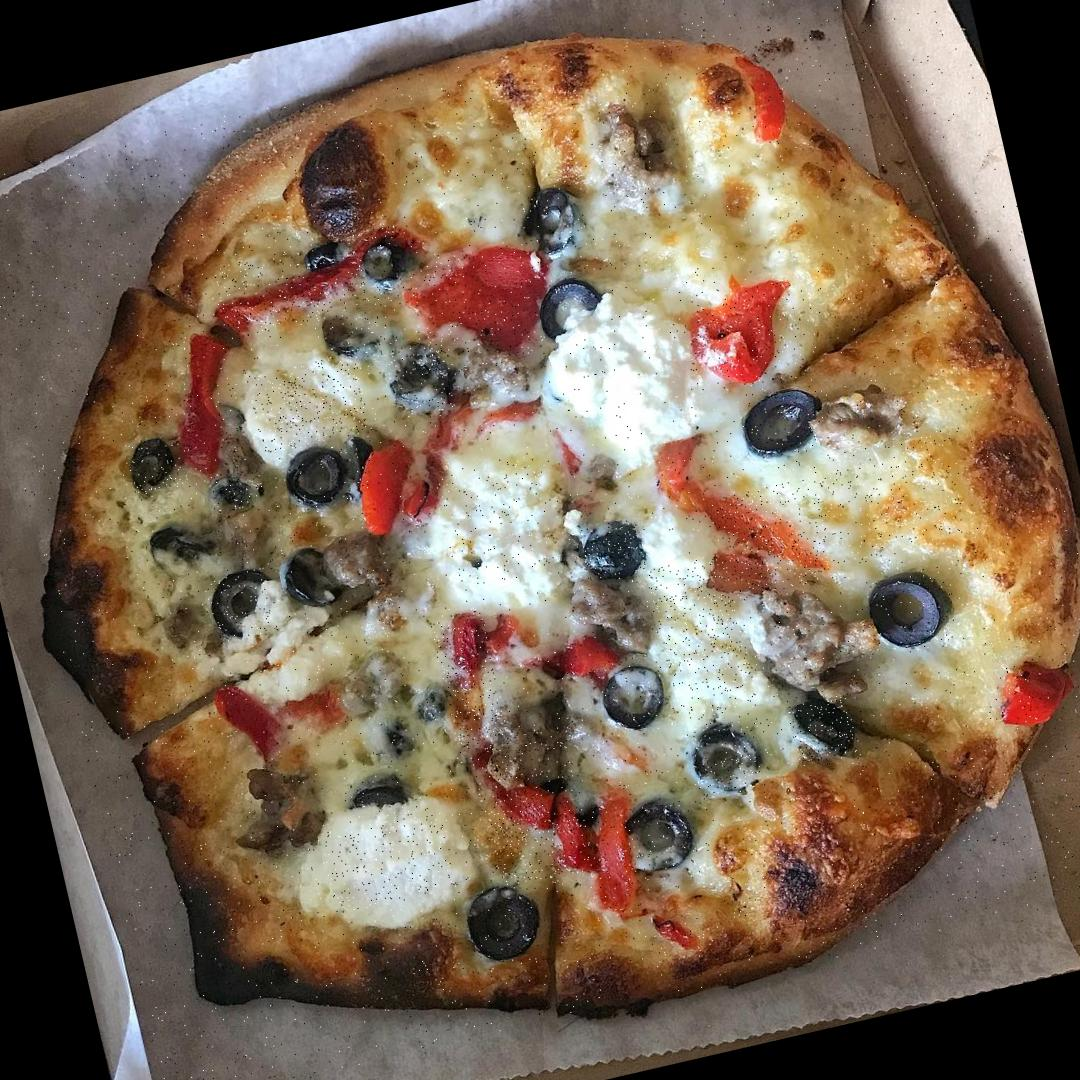Cheese: (810, 428, 970, 570), (559, 313, 704, 450), (646, 553, 759, 724), (431, 455, 563, 596), (317, 806, 459, 916), (246, 352, 372, 456)
Olives: (865, 566, 957, 658), (280, 434, 385, 508), (738, 384, 828, 462), (462, 882, 544, 966), (687, 718, 767, 802), (515, 178, 594, 263), (382, 335, 461, 420), (620, 796, 703, 875), (202, 567, 278, 646), (534, 273, 613, 345), (320, 298, 400, 368), (787, 694, 862, 768), (595, 666, 672, 735), (276, 544, 346, 612), (580, 517, 648, 586), (148, 520, 216, 579), (124, 434, 185, 497), (207, 464, 266, 514), (344, 774, 410, 818), (360, 235, 414, 285), (302, 236, 355, 276)
Peppers: (398, 232, 568, 380), (210, 223, 419, 342), (466, 722, 596, 890), (676, 272, 810, 399), (152, 324, 256, 482), (718, 477, 837, 599), (428, 606, 509, 746), (348, 435, 456, 536), (580, 783, 658, 919), (648, 434, 728, 552), (211, 678, 292, 778), (992, 650, 1080, 733), (736, 45, 796, 144), (276, 676, 354, 748)
Pizza: (0, 0, 1080, 1080)
